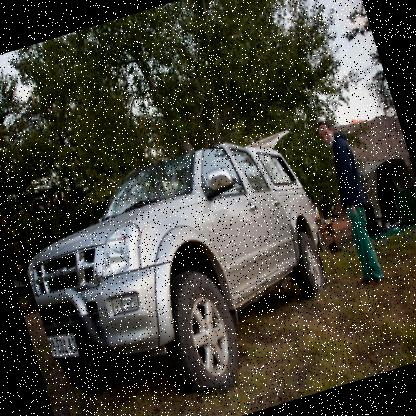Car: (7, 122, 359, 415)
